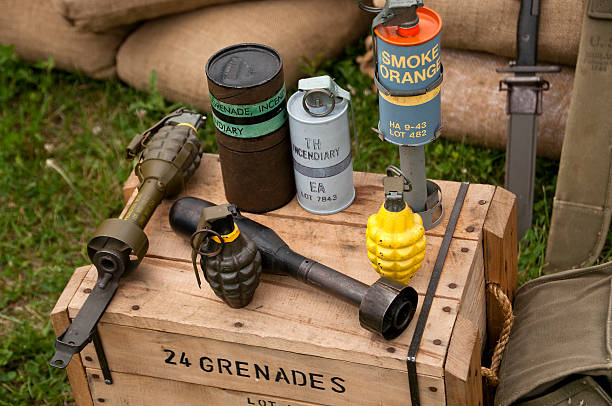e1: (355, 1, 448, 145), (286, 76, 357, 216), (363, 166, 431, 278), (188, 207, 264, 303), (128, 105, 208, 192)
